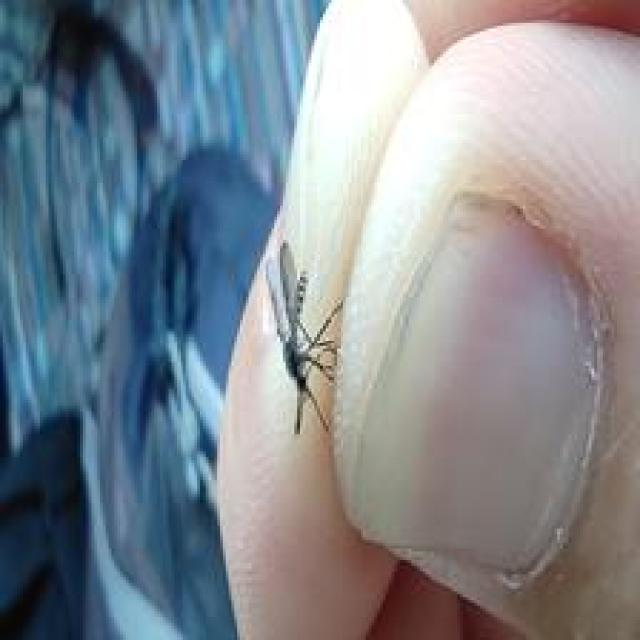Aedes albopictus: (263, 238, 346, 436)
